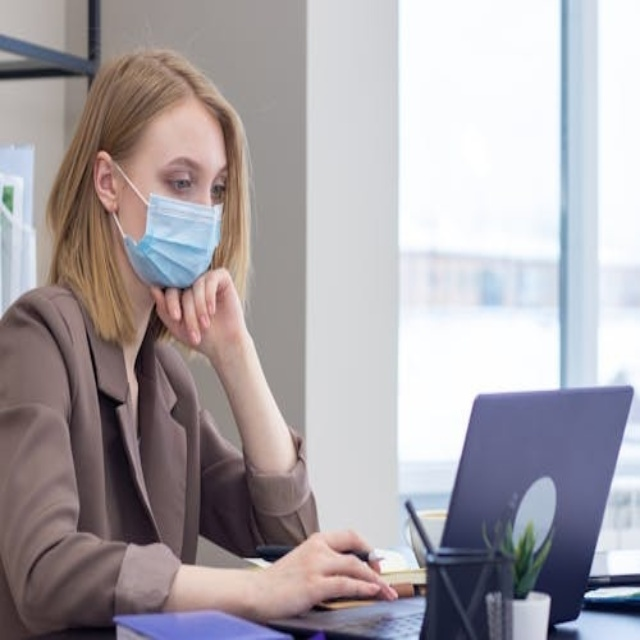Mascara: (111, 161, 224, 290)
Sin_gafas: (168, 175, 194, 192), (211, 181, 226, 200)
Sin_guantes: (262, 529, 399, 622), (150, 259, 262, 365)
